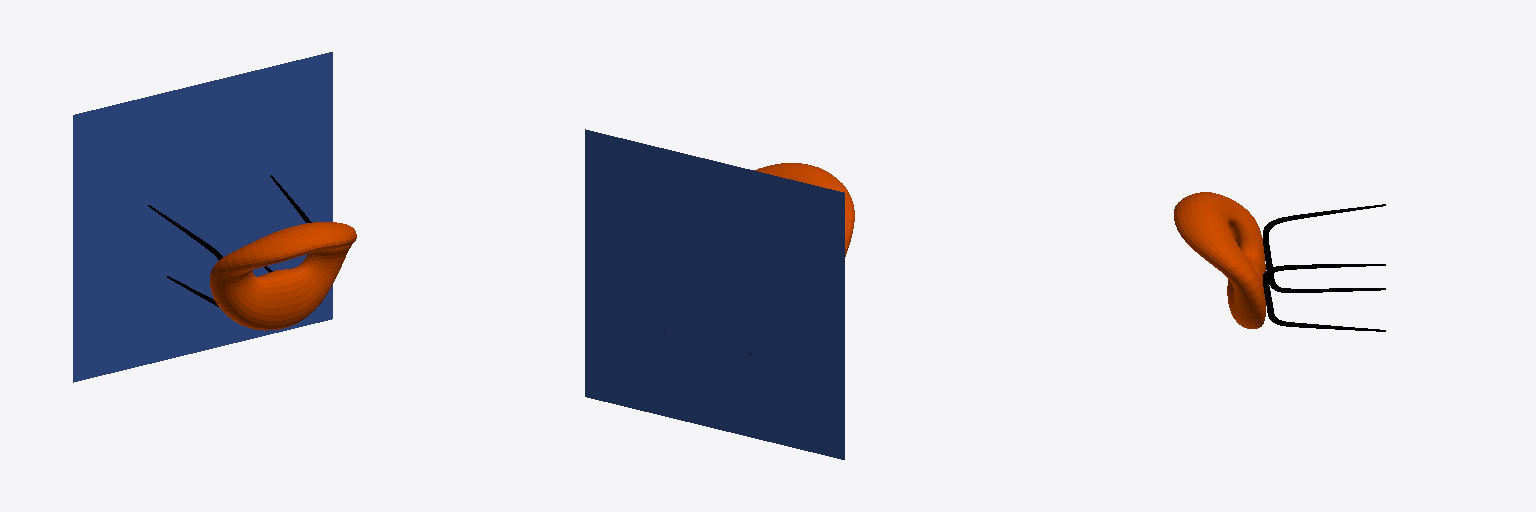
File: chair.obj
3 views of the same model, side by side, from view 1: azimuth 30°, elevation 25°; view 2: azimuth 150°, elevation 25°; view 3: azimuth 270°, elevation 25° (orthographic).
Visible parts, largest first — view 1: Plane01, Tube01, Cylinder05_pivot; view 2: Plane01, Tube01; view 3: Tube01, Cylinder05_pivot, Cylinder04_pivot.
Part boxes in pixels (left/top/right/bottom): Plane01: left=73, top=52, right=332, bottom=382; Tube01: left=210, top=222, right=356, bottom=330; Cylinder05_pivot: left=149, top=206, right=222, bottom=306; Plane01: left=585, top=129, right=844, bottom=459; Tube01: left=754, top=163, right=854, bottom=256; Tube01: left=1174, top=192, right=1265, bottom=328; Cylinder05_pivot: left=1263, top=204, right=1384, bottom=292; Cylinder04_pivot: left=1263, top=264, right=1384, bottom=331.
Size of the model in its own units: 363 by 358 by 258.